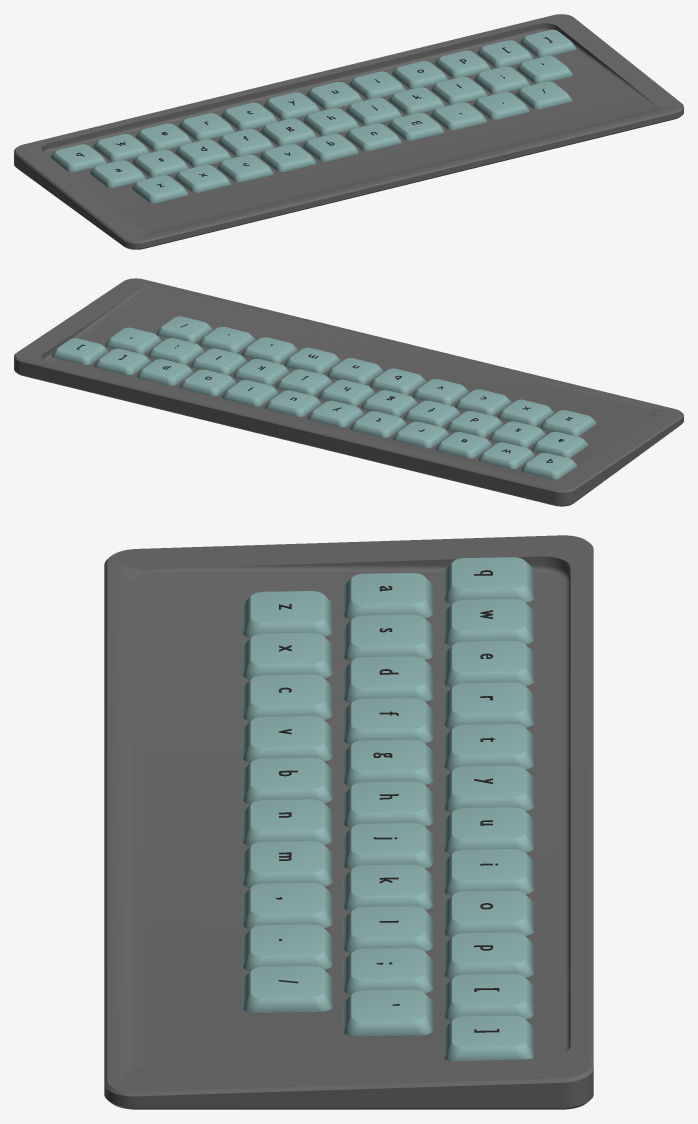
Rendered from keyboard-80e0ef84.glb.
The picture shows the model from 3 angles, top to bottom: view 1: azimuth 30°, elevation 25°; view 2: azimuth 150°, elevation 25°; view 3: azimuth 270°, elevation 25°; orthographic projection. The views are drawn at different scales.
Visible parts, largest first — view 1: Board, key-,, key-c, key-v, key-z, key-b, key-/, key-n, key-x, key-., key-m, key-a (+22 smaller); view 2: Board, key-u, key-[, key-o, key-], key-p, key-r, key-w, key-y, key-e, key-i, key-t (+22 smaller); view 3: Board, key-', key-/, key-], key-s, key-g, key-k, key-e, key-., key-c, key-n, key-y (+22 smaller).
Part boxes in pixels (x1=…): Board: x1=14, y1=14, x2=683, y2=249; key-,: x1=430, y1=102, x2=487, y2=130; key-c: x1=216, y1=154, x2=273, y2=182; key-v: x1=259, y1=144, x2=316, y2=172; key-z: x1=131, y1=175, x2=188, y2=203; key-b: x1=302, y1=133, x2=359, y2=161; key-/: x1=515, y1=81, x2=572, y2=109; key-n: x1=345, y1=123, x2=401, y2=151; key-x: x1=174, y1=165, x2=231, y2=193; key-.: x1=473, y1=92, x2=529, y2=120; key-m: x1=387, y1=113, x2=444, y2=140; key-a: x1=89, y1=160, x2=146, y2=188; Board: x1=14, y1=278, x2=683, y2=506; key-u: x1=264, y1=390, x2=321, y2=417; key-[: x1=94, y1=348, x2=150, y2=375; key-o: x1=179, y1=369, x2=236, y2=396; key-]: x1=51, y1=338, x2=108, y2=365; key-p: x1=136, y1=359, x2=193, y2=385; key-r: x1=392, y1=421, x2=449, y2=448; key-w: x1=478, y1=442, x2=535, y2=469; key-y: x1=307, y1=400, x2=364, y2=427; key-e: x1=435, y1=432, x2=492, y2=458; key-i: x1=222, y1=380, x2=278, y2=406; key-t: x1=350, y1=411, x2=406, y2=437; Board: x1=104, y1=535, x2=593, y2=1109; key-': x1=343, y1=989, x2=433, y2=1036; key-/: x1=242, y1=966, x2=332, y2=1013; key-]: x1=444, y1=1015, x2=534, y2=1061; key-s: x1=343, y1=614, x2=433, y2=661; key-g: x1=343, y1=739, x2=433, y2=786; key-k: x1=343, y1=864, x2=433, y2=911; key-e: x1=444, y1=640, x2=534, y2=687; key-.: x1=242, y1=924, x2=332, y2=971; key-c: x1=242, y1=674, x2=332, y2=721; key-n: x1=242, y1=799, x2=332, y2=846; key-y: x1=444, y1=765, x2=534, y2=812.
Size of the model in its own units: 5.28 by 0.1633 by 2.
